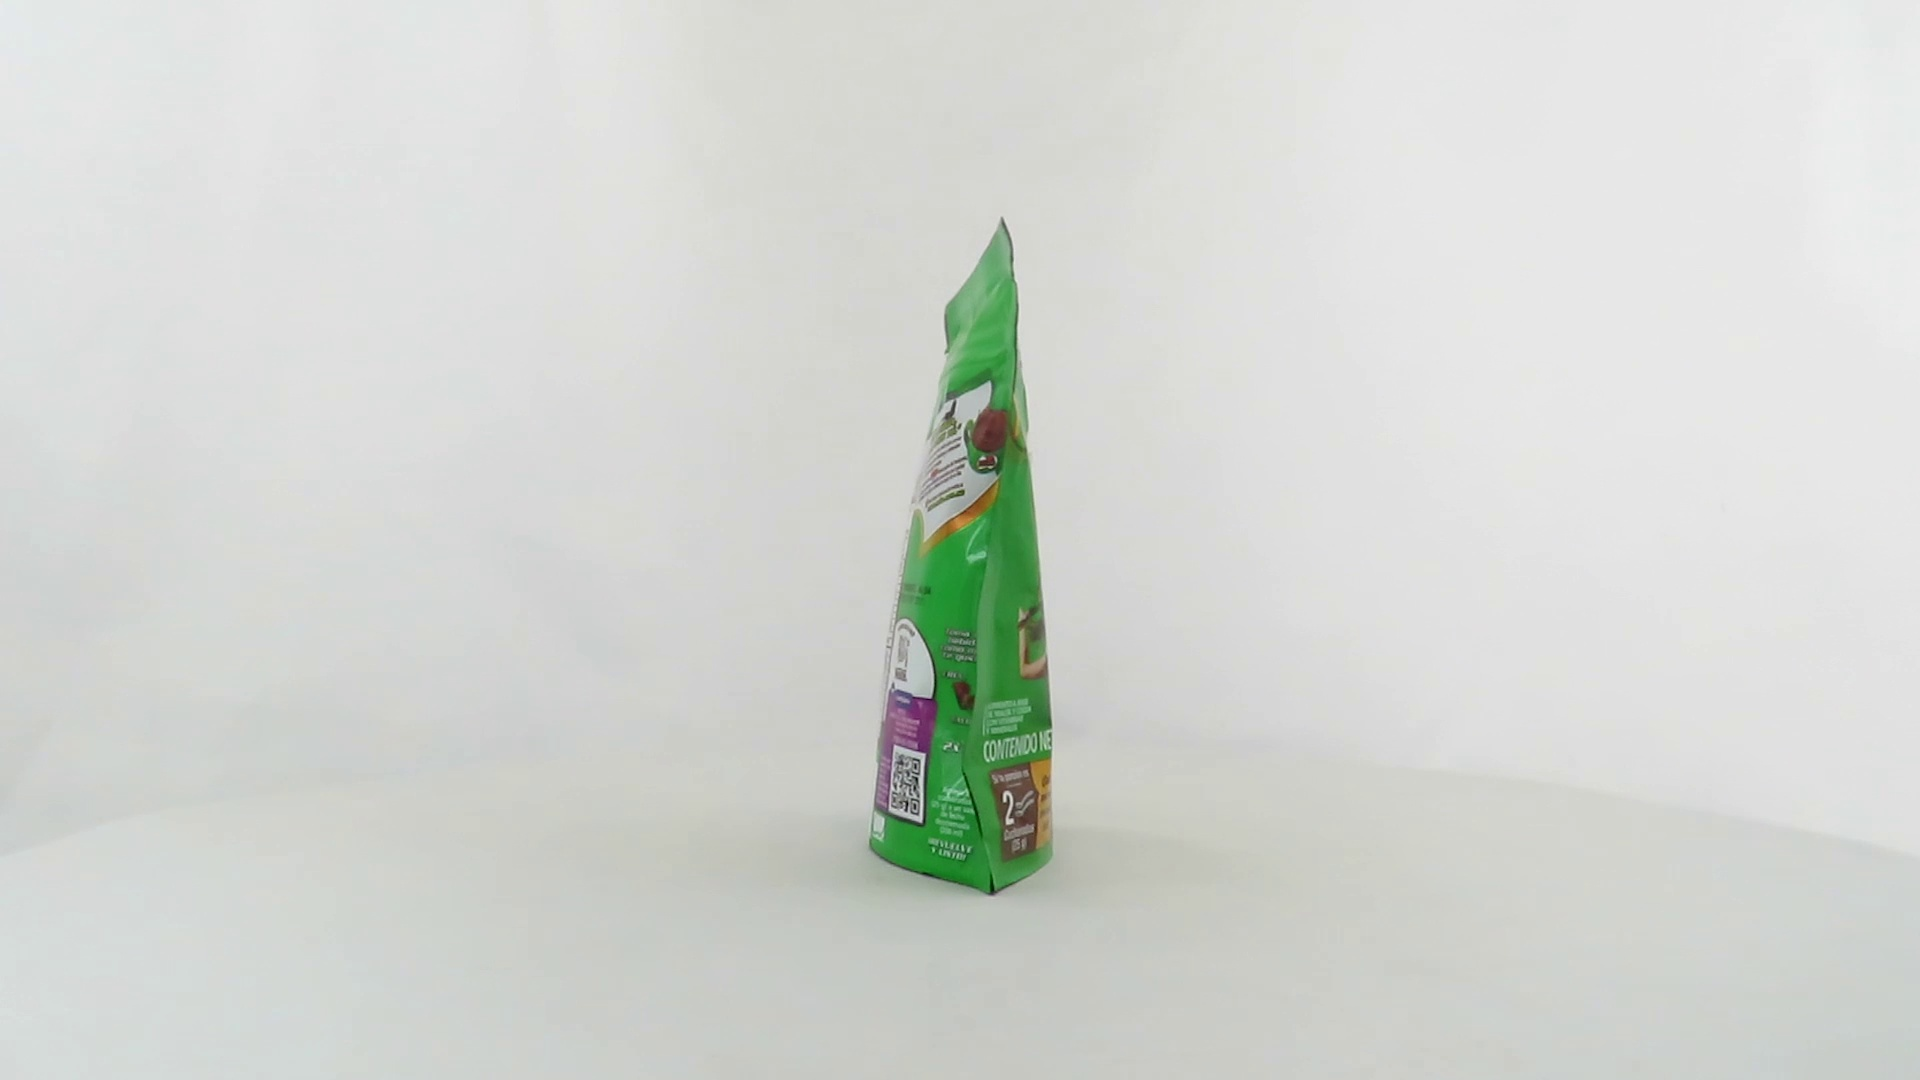COL0170203DYP10000: (864, 212, 1059, 902)
